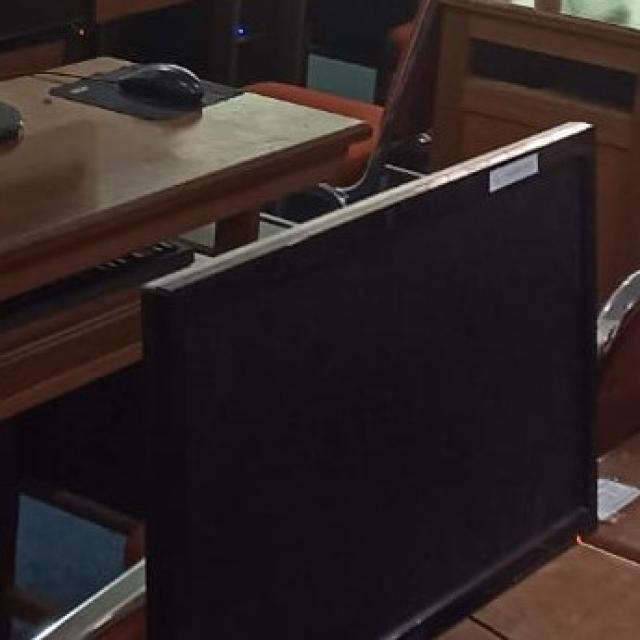onscreen: (144, 124, 594, 639)
